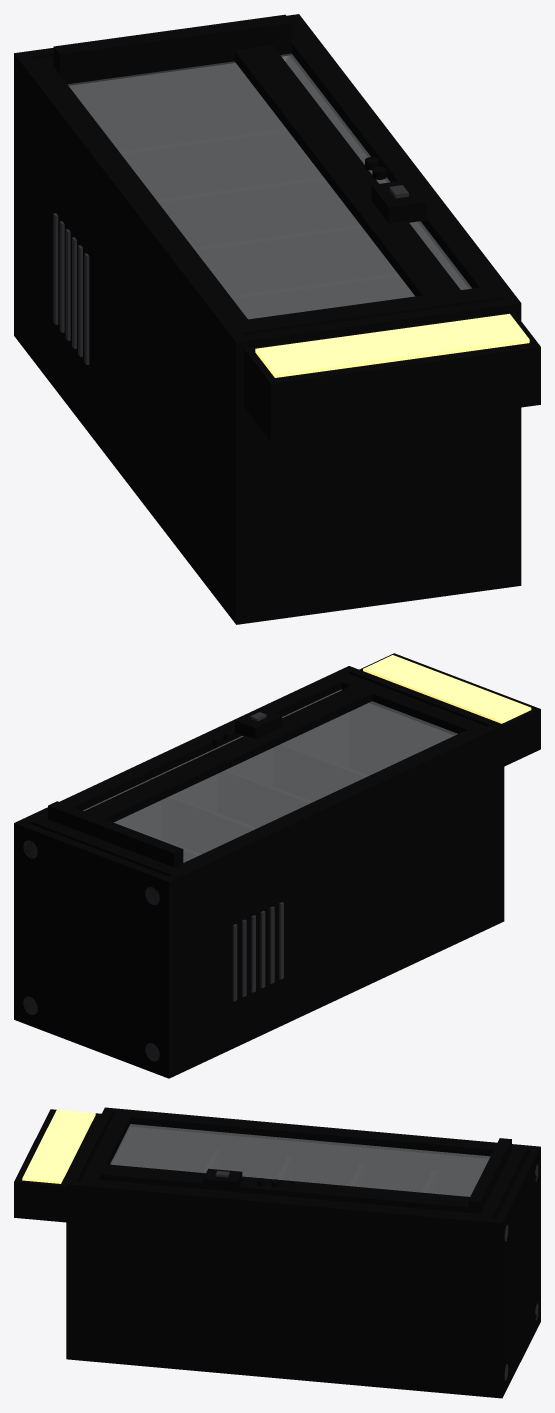
Rendered from vending_machine.glb.
3 views of the same model, one above another, from view 1: azimuth 30°, elevation 25°; view 2: azimuth 150°, elevation 25°; view 3: azimuth 270°, elevation 25° (orthographic). The views are drawn at different scales.
Parts seen in each view (by area): view 1: Shell_Left, Shell_Top, Glass_Panel, Sign_Box, Shell_Bottom, Control_Panel, Drip_Tray, Shelf_1, Shelf_2, Shelf_3, Bezel_Right, Bezel_Left (+6 smaller); view 2: Shell_Left, Shell_Bottom, Glass_Panel, Shell_Top, Control_Panel, Bezel_Left, Shell_Right, Bezel_Right, Shell_Back, Sign_Face, Shelf_2, Shelf_3 (+6 smaller); view 3: Shell_Right, Glass_Panel, Shell_Left, Shell_Bottom, Bezel_Left, Control_Panel, Bezel_Right, Sign_Face, Sign_Box, Shell_Back, Bezel_Bottom, Bezel_Top (+3 smaller).
Boxes of the visible parts, x1,y1,x2,y2 form: Shell_Left: [14, 53, 249, 624]; Shell_Top: [232, 299, 507, 623]; Glass_Panel: [68, 54, 471, 318]; Sign_Box: [244, 311, 540, 441]; Shell_Bottom: [14, 14, 302, 338]; Control_Panel: [234, 45, 460, 296]; Drip_Tray: [53, 14, 291, 85]; Shelf_1: [119, 128, 322, 199]; Shelf_2: [156, 177, 359, 247]; Shelf_3: [193, 225, 396, 295]; Bezel_Right: [291, 33, 514, 299]; Bezel_Left: [20, 62, 256, 344]; Shell_Left: [162, 722, 504, 1078]; Shell_Bottom: [14, 820, 175, 1077]; Glass_Panel: [83, 689, 457, 862]; Shell_Top: [349, 668, 504, 923]; Control_Panel: [84, 686, 372, 822]; Bezel_Left: [164, 723, 494, 884]; Shell_Right: [14, 666, 355, 858]; Bezel_Right: [31, 670, 353, 826]; Shell_Back: [34, 913, 504, 1078]; Sign_Face: [363, 655, 531, 723]; Shelf_2: [161, 795, 256, 853]; Shelf_3: [217, 769, 312, 827]; Shell_Right: [66, 1180, 501, 1397]; Glass_Panel: [110, 1124, 489, 1196]; Shell_Left: [103, 1107, 540, 1324]; Shell_Bottom: [494, 1146, 540, 1398]; Bezel_Left: [113, 1108, 526, 1158]; Control_Panel: [101, 1164, 469, 1212]; Bezel_Right: [78, 1178, 493, 1228]; Sign_Face: [22, 1109, 95, 1183]; Sign_Box: [14, 1109, 101, 1222]; Shell_Back: [176, 1314, 540, 1398]; Bezel_Bottom: [473, 1144, 528, 1228]; Bezel_Top: [78, 1115, 130, 1193].
Bounding box in the file's own units: 1.13 × 0.835 × 2.13.
10 materials, 4 textured.
